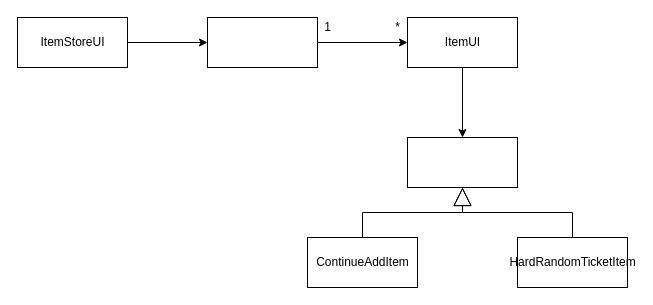
The diagram is 653 pixels wide and 305 high, and some of its shapes have lost their labels. Each missing label, with the box of its shape:
Item: (406, 136, 518, 188)
ItemUIList: (206, 16, 318, 68)
